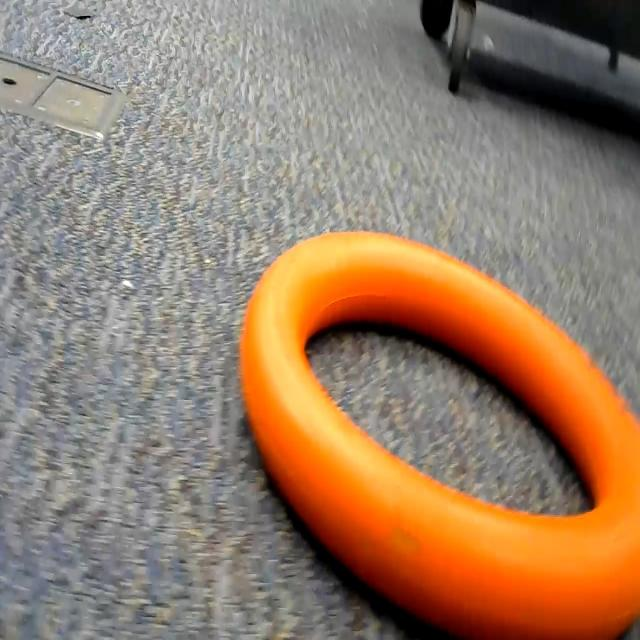note: (228, 213, 640, 640)
